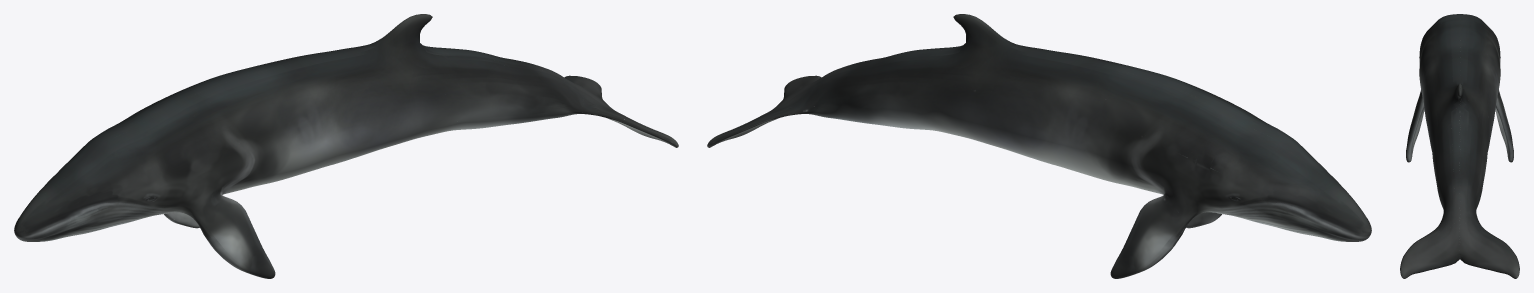
File: Minke_Whale.glb
The picture shows the model from 3 angles, left to right: view 1: azimuth 30°, elevation 25°; view 2: azimuth 150°, elevation 25°; view 3: azimuth 270°, elevation 25°; orthographic projection. The views are drawn at different scales.
Visible parts, largest first — view 1: Minke_Whale.001; view 2: Minke_Whale.001; view 3: Minke_Whale.001.
Boxes of the visible parts, <box> form: Minke_Whale.001: <box>14,14,678,278</box>; Minke_Whale.001: <box>707,14,1371,278</box>; Minke_Whale.001: <box>1400,14,1519,278</box>.
Bounding box in the file's own units: 15.43 × 4.59 × 3.55.
1 material, 1 textured.
